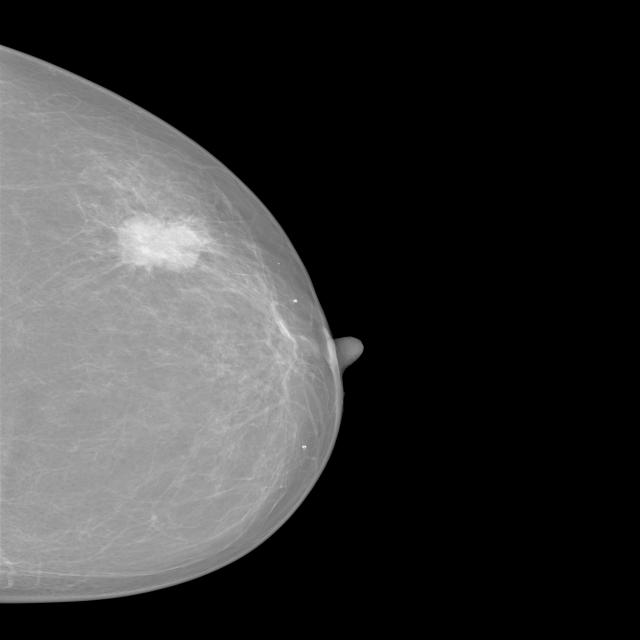Mass_1: (88, 197, 235, 289)
